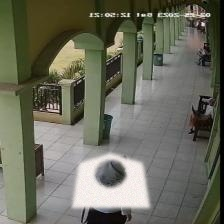Mukena: (71, 152, 150, 208)
